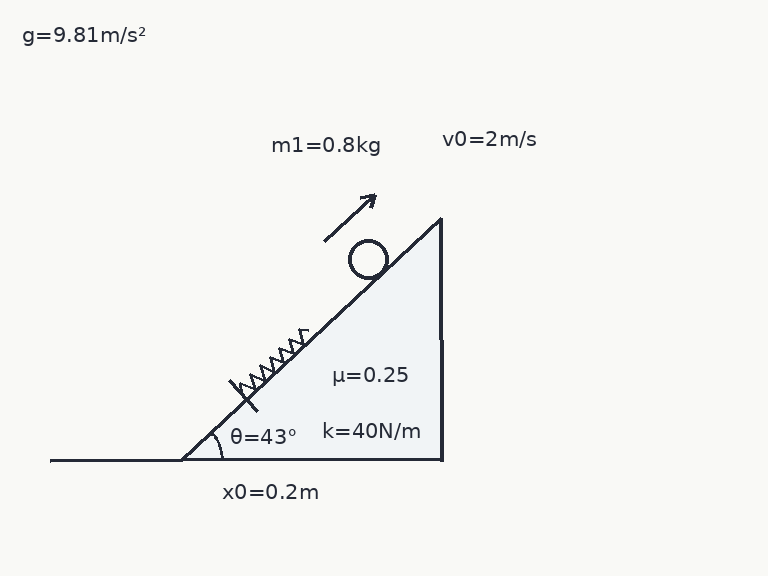ball: (346, 237, 390, 281)
ramp: (180, 217, 443, 462)
spring: (239, 328, 310, 395)
